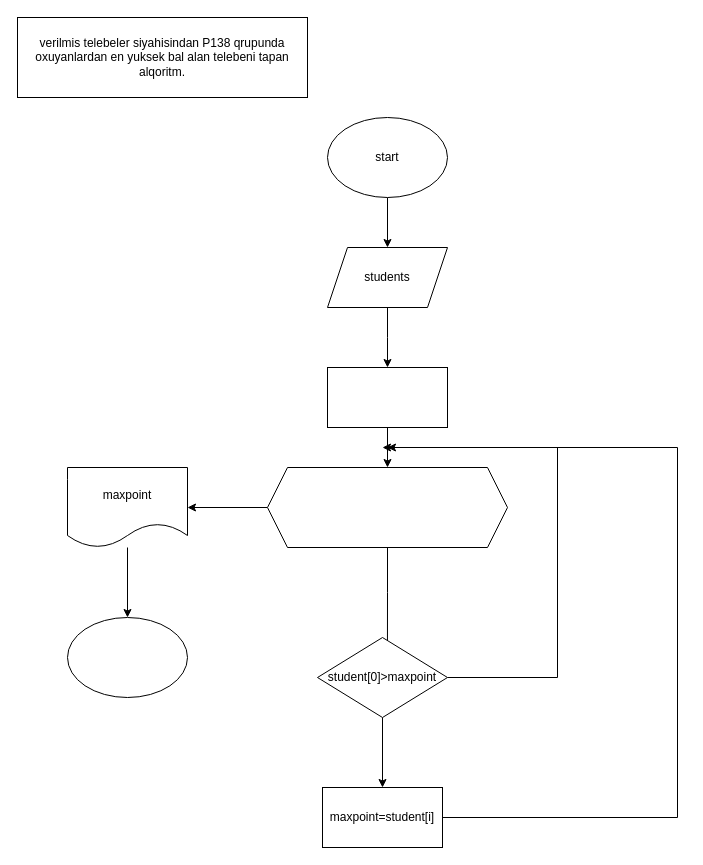
The diagram is 703 pixels wide and 865 high, and some of its shapes have lost their labels. Here are the shapes that lost their labels. From the top down, the centre of each, then its label:
At pixel 387 397: "maxpoint=students[0]".
At pixel 387 507: "i=0, i< students/length, i++".
At pixel 127 657: "end".
